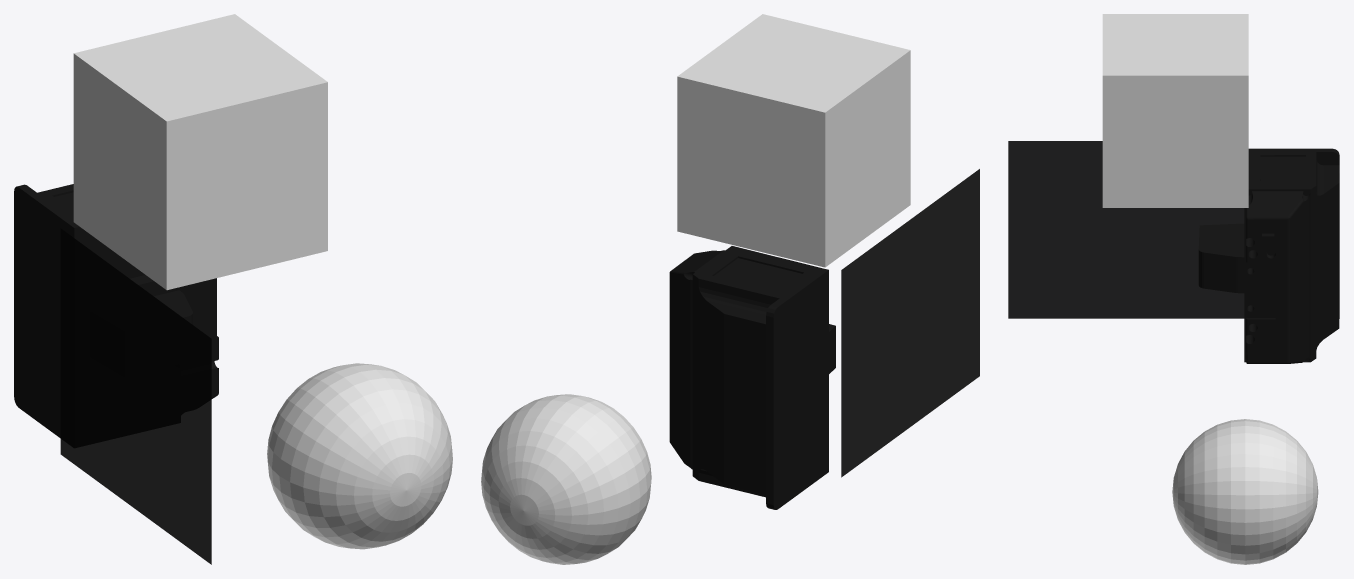
File: cockpit_front.gltf
3 views of the same model, side by side, from view 1: azimuth 30°, elevation 25°; view 2: azimuth 150°, elevation 25°; view 3: azimuth 270°, elevation 25° (orthographic). The views are drawn at different scales.
Parts seen in each view (by area): view 1: Cube, vth_d.canvas, Sphere, vth_d.camera_body; view 2: Cube, vth_d.camera_body, vth_d.canvas, Sphere; view 3: vth_d.canvas, Cube, vth_d.camera_body, Sphere.
Boxes of the visible parts, bbox=[...] form: Cube: bbox=[73, 14, 327, 290]; vth_d.canvas: bbox=[60, 228, 211, 564]; Sphere: bbox=[267, 363, 452, 549]; vth_d.camera_body: bbox=[14, 184, 218, 438]; Cube: bbox=[677, 14, 910, 267]; vth_d.camera_body: bbox=[669, 246, 835, 509]; vth_d.canvas: bbox=[841, 169, 979, 477]; Sphere: bbox=[481, 394, 651, 564]; vth_d.canvas: bbox=[1008, 141, 1244, 318]; Cube: bbox=[1102, 14, 1248, 207]; vth_d.camera_body: bbox=[1198, 148, 1339, 363]; Sphere: bbox=[1172, 419, 1318, 564].
Size of the model in its own units: 0.2356 by 0.3289 by 0.2268.
2 materials, 1 textured.
